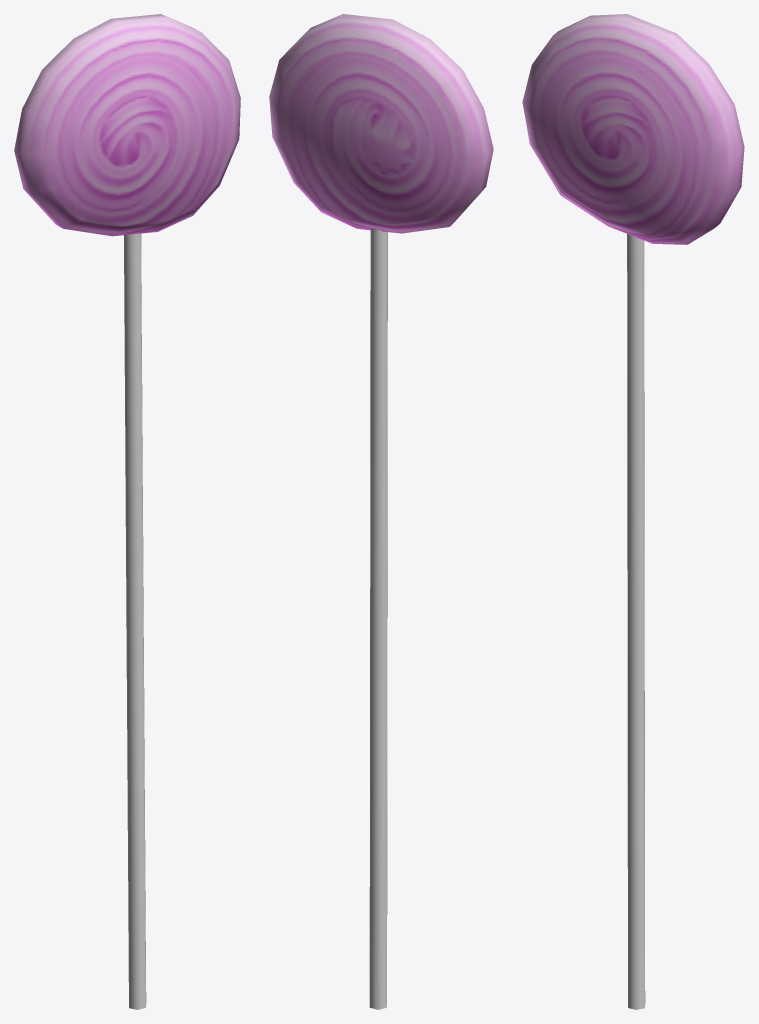
The model's file is BuffetCandy01_9.FBX.
The picture shows the model from 3 angles, left to right: view 1: azimuth 30°, elevation 25°; view 2: azimuth 150°, elevation 25°; view 3: azimuth 330°, elevation 25°; orthographic projection.
Parts seen in each view (by area): view 1: BuffetCandy01_9; view 2: BuffetCandy01_9; view 3: BuffetCandy01_9.
Part boxes in pixels (x1=…): BuffetCandy01_9: x1=14, y1=14, x2=240, y2=1009; BuffetCandy01_9: x1=269, y1=14, x2=493, y2=1009; BuffetCandy01_9: x1=522, y1=14, x2=744, y2=1009.
Size of what is drawn, in the model's own units: 0.0717 by 0.3079 by 0.0163.
